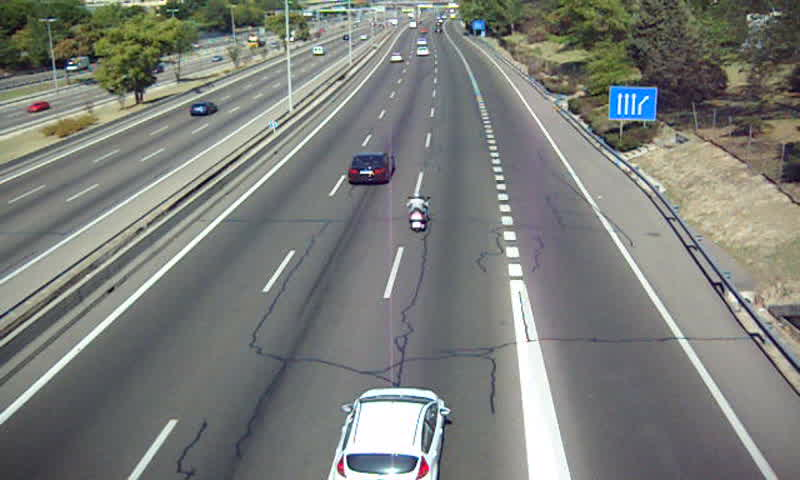car: (337, 388, 442, 480), (345, 152, 396, 186)
motorcycle: (406, 191, 432, 234)
